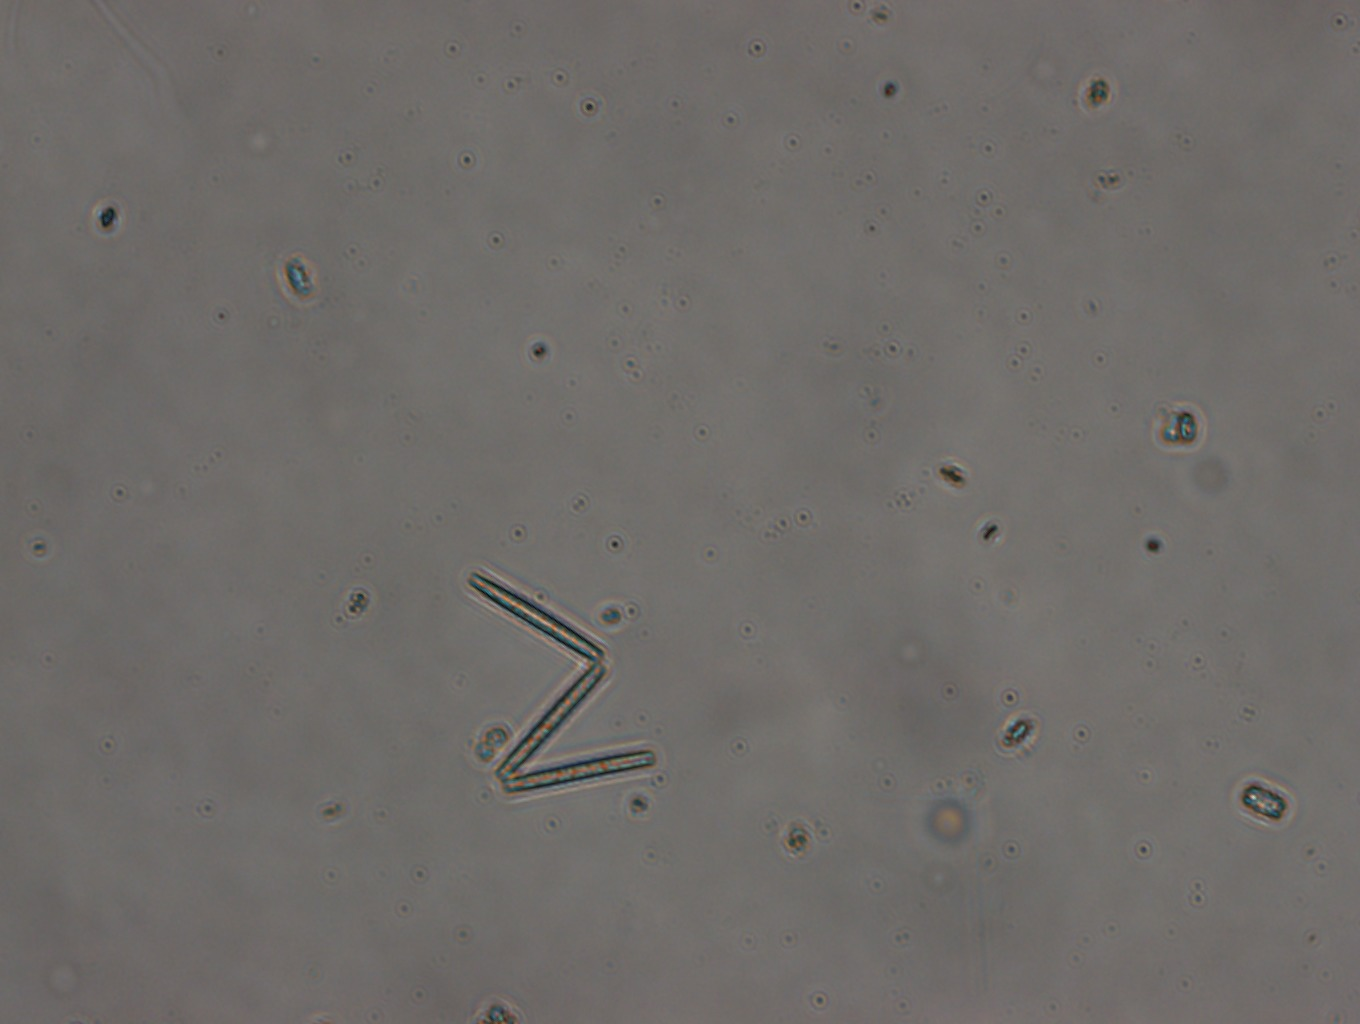thalassionema nitzschioides: (464, 567, 657, 800)
